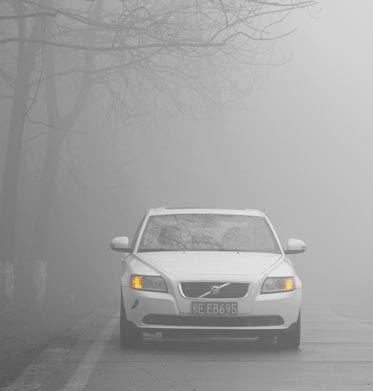car: (109, 202, 309, 350)
